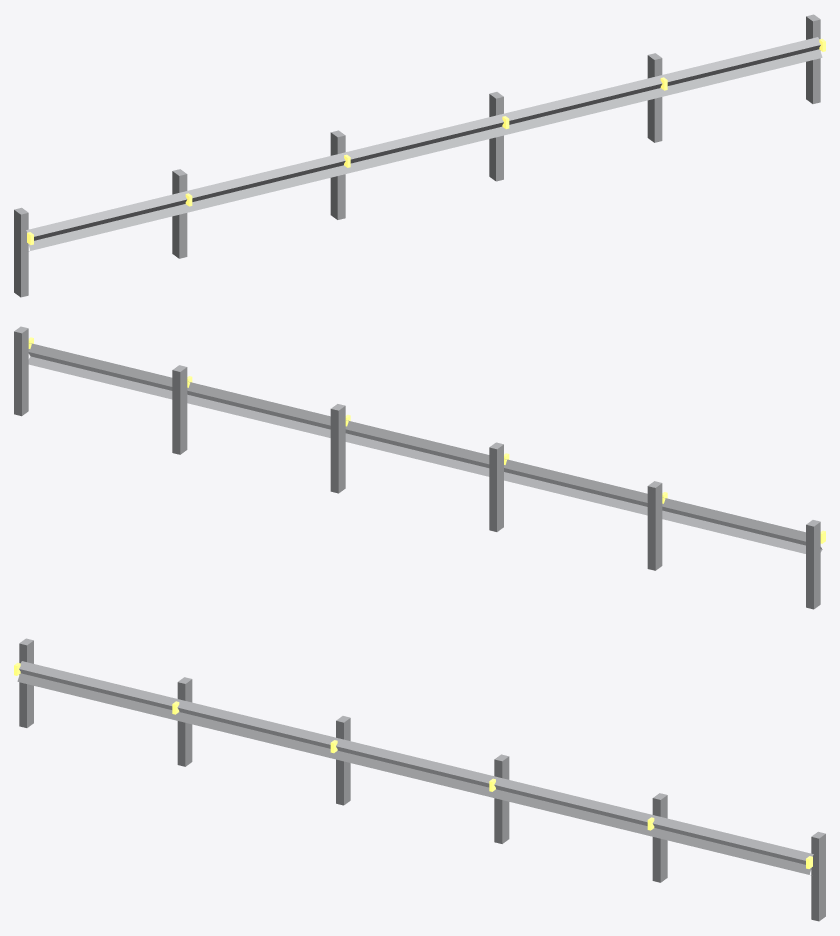
The model's file is SM_Guardrail_10m.fbx.
3 views of the same model, one above another, from view 1: azimuth 30°, elevation 25°; view 2: azimuth 150°, elevation 25°; view 3: azimuth 330°, elevation 25° (orthographic).
Parts seen in each view (by area): view 1: SM_Guardrail_10m; view 2: SM_Guardrail_10m; view 3: SM_Guardrail_10m.
Part boxes in pixels (box(x1,y1,x2,y2)): SM_Guardrail_10m: box(14, 14, 825, 297); SM_Guardrail_10m: box(14, 326, 825, 609); SM_Guardrail_10m: box(14, 638, 825, 921).
Bounding box in the file's own units: 1010 × 100 × 31.5.
